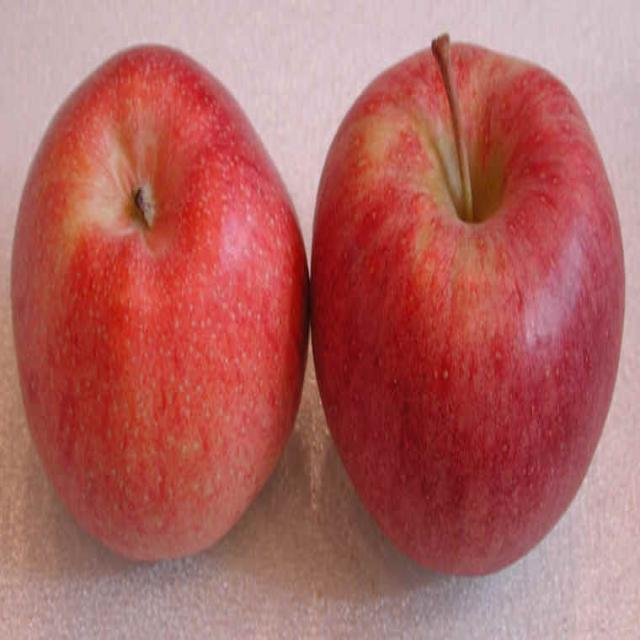Apple: (310, 31, 626, 576), (11, 43, 314, 569)
